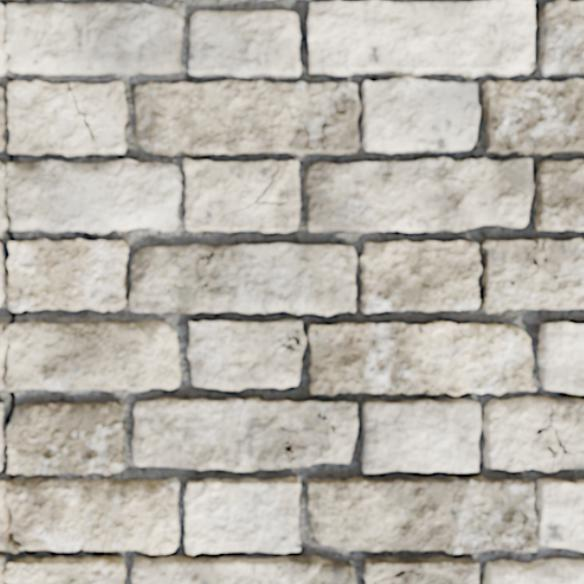brick: (308, 0, 535, 153), (136, 12, 359, 155), (308, 477, 583, 552), (305, 159, 583, 231), (308, 322, 535, 395), (360, 239, 583, 313), (133, 398, 357, 470), (130, 244, 356, 315), (0, 82, 127, 157), (0, 239, 128, 311), (361, 399, 480, 472), (186, 477, 299, 553), (7, 403, 124, 474), (189, 320, 306, 390), (184, 160, 299, 231), (482, 79, 583, 155), (482, 397, 583, 470), (132, 556, 356, 583), (538, 0, 583, 76), (0, 556, 125, 583), (538, 323, 583, 393), (364, 557, 478, 583), (483, 559, 583, 583), (0, 403, 4, 470)
broken_brick: (0, 159, 184, 237), (0, 476, 180, 554), (6, 3, 185, 77), (0, 320, 180, 392), (0, 15, 5, 76), (0, 322, 6, 325)
crack: (24, 83, 94, 141), (505, 239, 559, 293), (533, 403, 583, 458), (3, 500, 39, 554), (264, 333, 306, 365), (0, 0, 16, 83), (0, 343, 16, 425), (0, 183, 16, 243), (373, 568, 425, 583), (514, 504, 530, 552), (478, 519, 496, 548), (0, 309, 16, 333), (2, 152, 13, 175), (98, 550, 119, 558), (10, 473, 18, 482), (294, 542, 300, 550), (6, 250, 11, 259), (5, 437, 8, 447), (428, 579, 435, 583), (122, 579, 126, 583), (9, 135, 11, 141)
